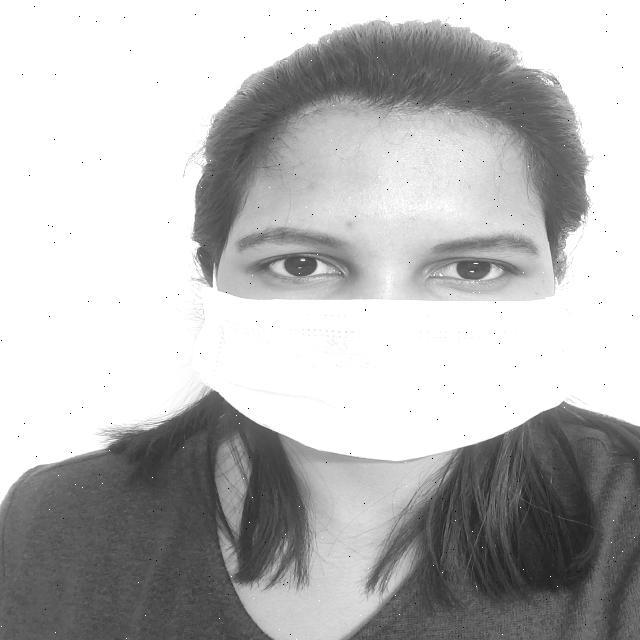fake: (184, 290, 589, 474)
real: (212, 96, 559, 485)
